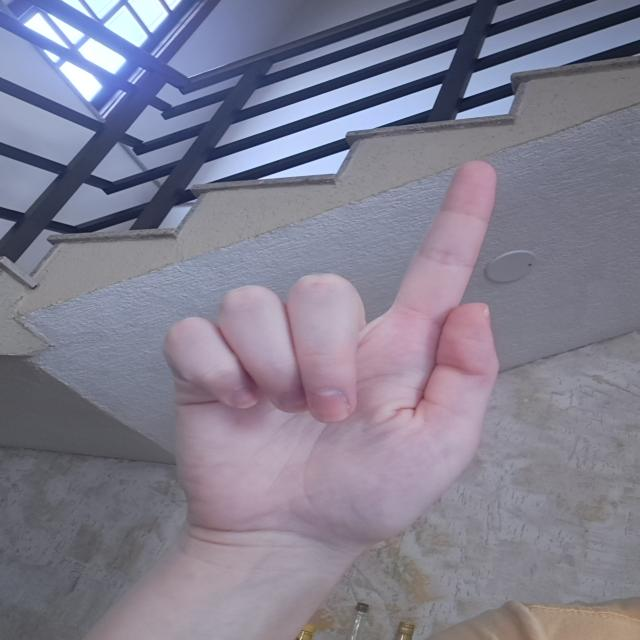G: (159, 157, 536, 545)
